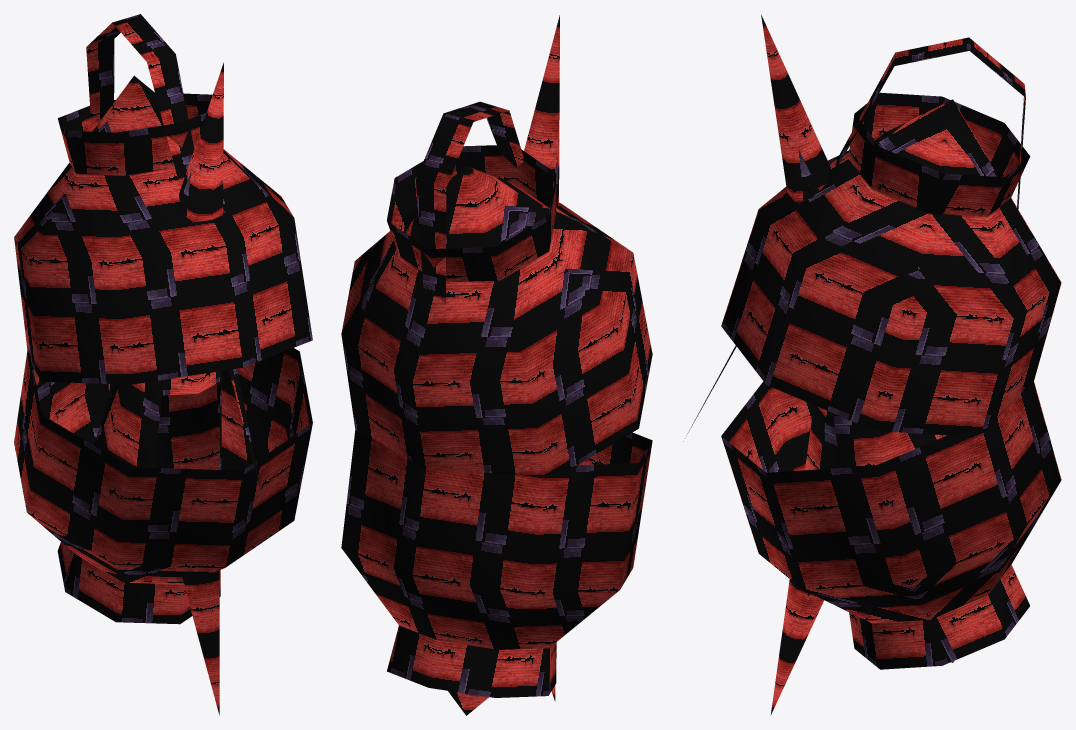
The model's file is 3361IMIG14_04.gltf.
3 views of the same model, side by side, from view 1: azimuth 30°, elevation 25°; view 2: azimuth 150°, elevation 25°; view 3: azimuth 270°, elevation 25° (orthographic). The views are drawn at different scales.
Parts seen in each view (by area): view 1: 3361IMIG14_04; view 2: 3361IMIG14_04; view 3: 3361IMIG14_04.
Boxes of the visible parts, x1,y1,x2,y2 form: 3361IMIG14_04: (14, 14, 312, 715); 3361IMIG14_04: (341, 15, 652, 715); 3361IMIG14_04: (683, 14, 1061, 715).
Bounding box in the file's own units: 0.791 × 1.93 × 0.9453.
1 material, 1 textured.
